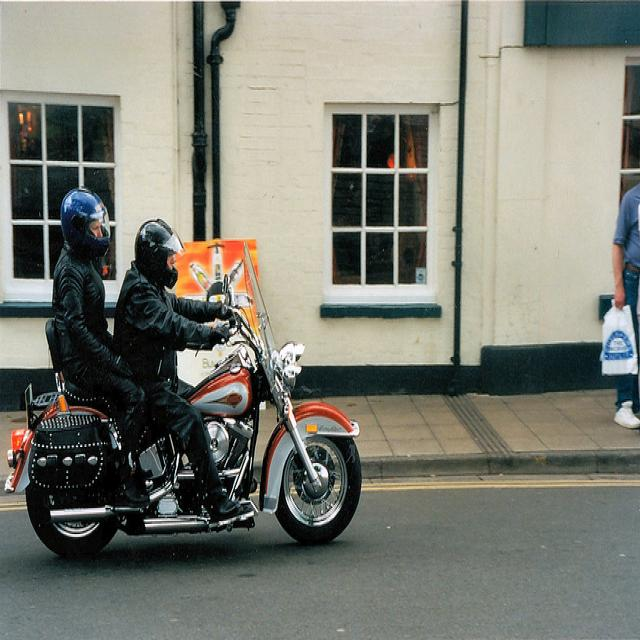motor: (5, 305, 366, 557)
